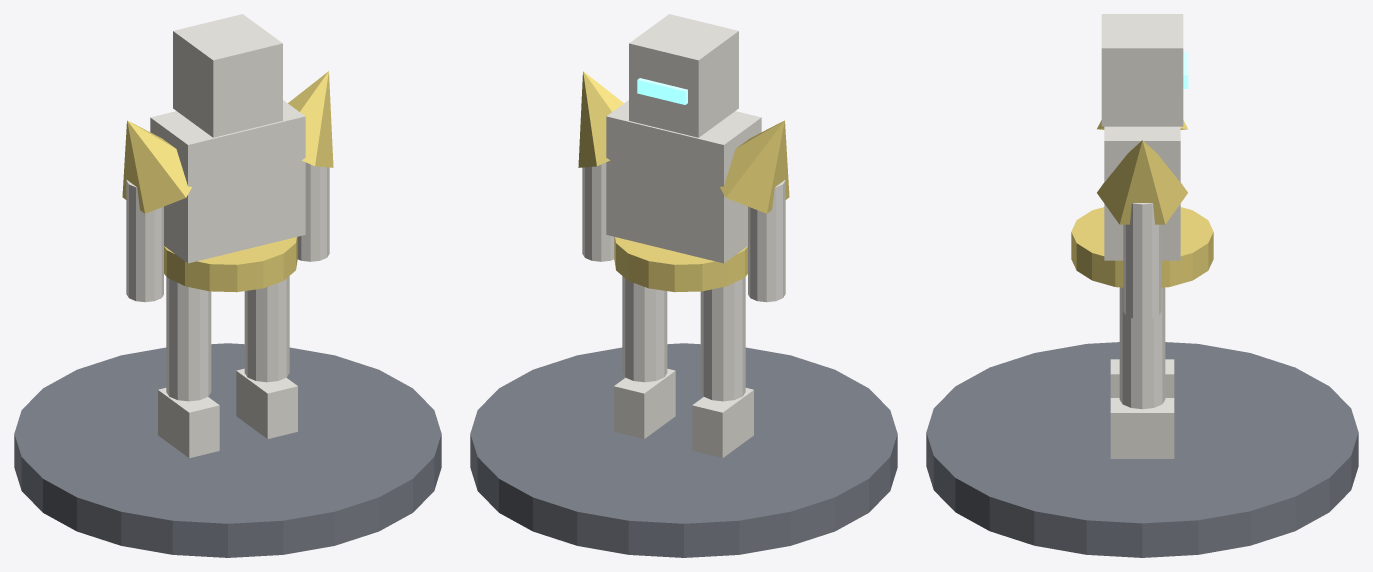
The model's file is armor_set_divine.glb.
3 views of the same model, side by side, from view 1: azimuth 30°, elevation 25°; view 2: azimuth 150°, elevation 25°; view 3: azimuth 270°, elevation 25° (orthographic).
Visible parts, largest first — view 1: Cylinder, Cube.002, Cube.003, Cylinder.001, Cylinder.003, Cylinder.002, Cone, Cylinder.004, Cube, Cube.001, Cylinder.005, Cone.001; view 2: Cylinder, Cube.002, Cube.003, Cylinder.001, Cylinder.003, Cylinder.002, Cone, Cylinder.004, Cube, Cube.001, Cylinder.005, Cone.001 (+1 smaller); view 3: Cylinder, Cube.003, Cylinder.003, Cylinder.002, Cube.002, Cone.001, Cylinder.005, Cube.001, Cube.
Part boxes in pixels (x1,y1,x2,y2): Cylinder: (14, 343, 441, 557); Cube.002: (150, 100, 305, 263); Cube.003: (173, 14, 282, 137); Cylinder.001: (166, 277, 211, 401); Cylinder.003: (164, 237, 297, 292); Cylinder.002: (244, 276, 289, 382); Cone: (122, 120, 191, 213); Cylinder.004: (126, 180, 163, 302); Cube: (158, 388, 219, 458); Cube.001: (236, 368, 297, 438); Cylinder.005: (297, 162, 329, 261); Cone.001: (288, 71, 333, 167); Cylinder: (470, 343, 897, 557); Cube.002: (606, 100, 761, 263); Cube.003: (629, 14, 738, 137); Cylinder.001: (700, 277, 745, 401); Cylinder.003: (614, 237, 747, 292); Cylinder.002: (622, 276, 667, 382); Cone: (720, 120, 789, 213); Cylinder.004: (748, 180, 785, 302); Cube: (692, 388, 753, 458); Cube.001: (614, 368, 675, 438); Cylinder.005: (582, 162, 614, 261); Cone.001: (578, 71, 623, 167); Cylinder: (926, 342, 1358, 557); Cube.003: (1101, 14, 1183, 126); Cylinder.003: (1071, 207, 1213, 287); Cylinder.002: (1119, 287, 1165, 409); Cube.002: (1104, 126, 1180, 260); Cone.001: (1097, 140, 1187, 224); Cylinder.005: (1123, 203, 1161, 319); Cube.001: (1110, 398, 1174, 458); Cube: (1110, 359, 1174, 397).
Size of the model in its own units: 1.7 by 1.89 by 1.7.
